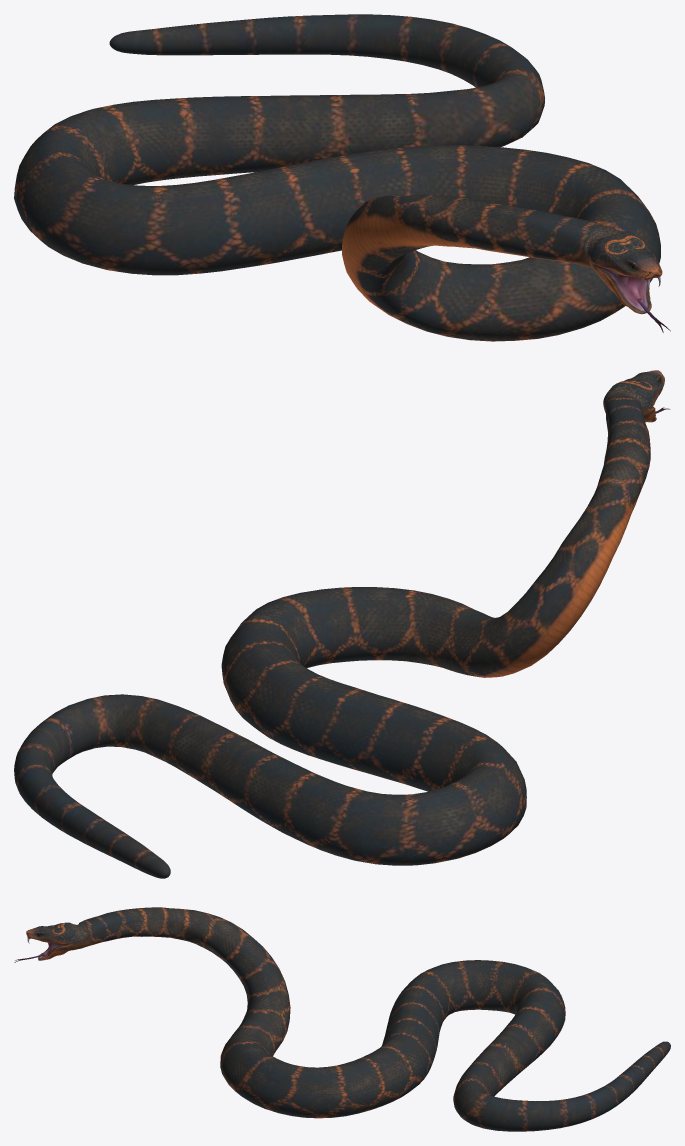
The picture shows the model from 3 angles, top to bottom: view 1: azimuth 30°, elevation 25°; view 2: azimuth 150°, elevation 25°; view 3: azimuth 270°, elevation 25°; orthographic projection. The views are drawn at different scales.
Bounding box in the file's own units: 673 × 290 × 1282.
2 materials, 2 textured.
